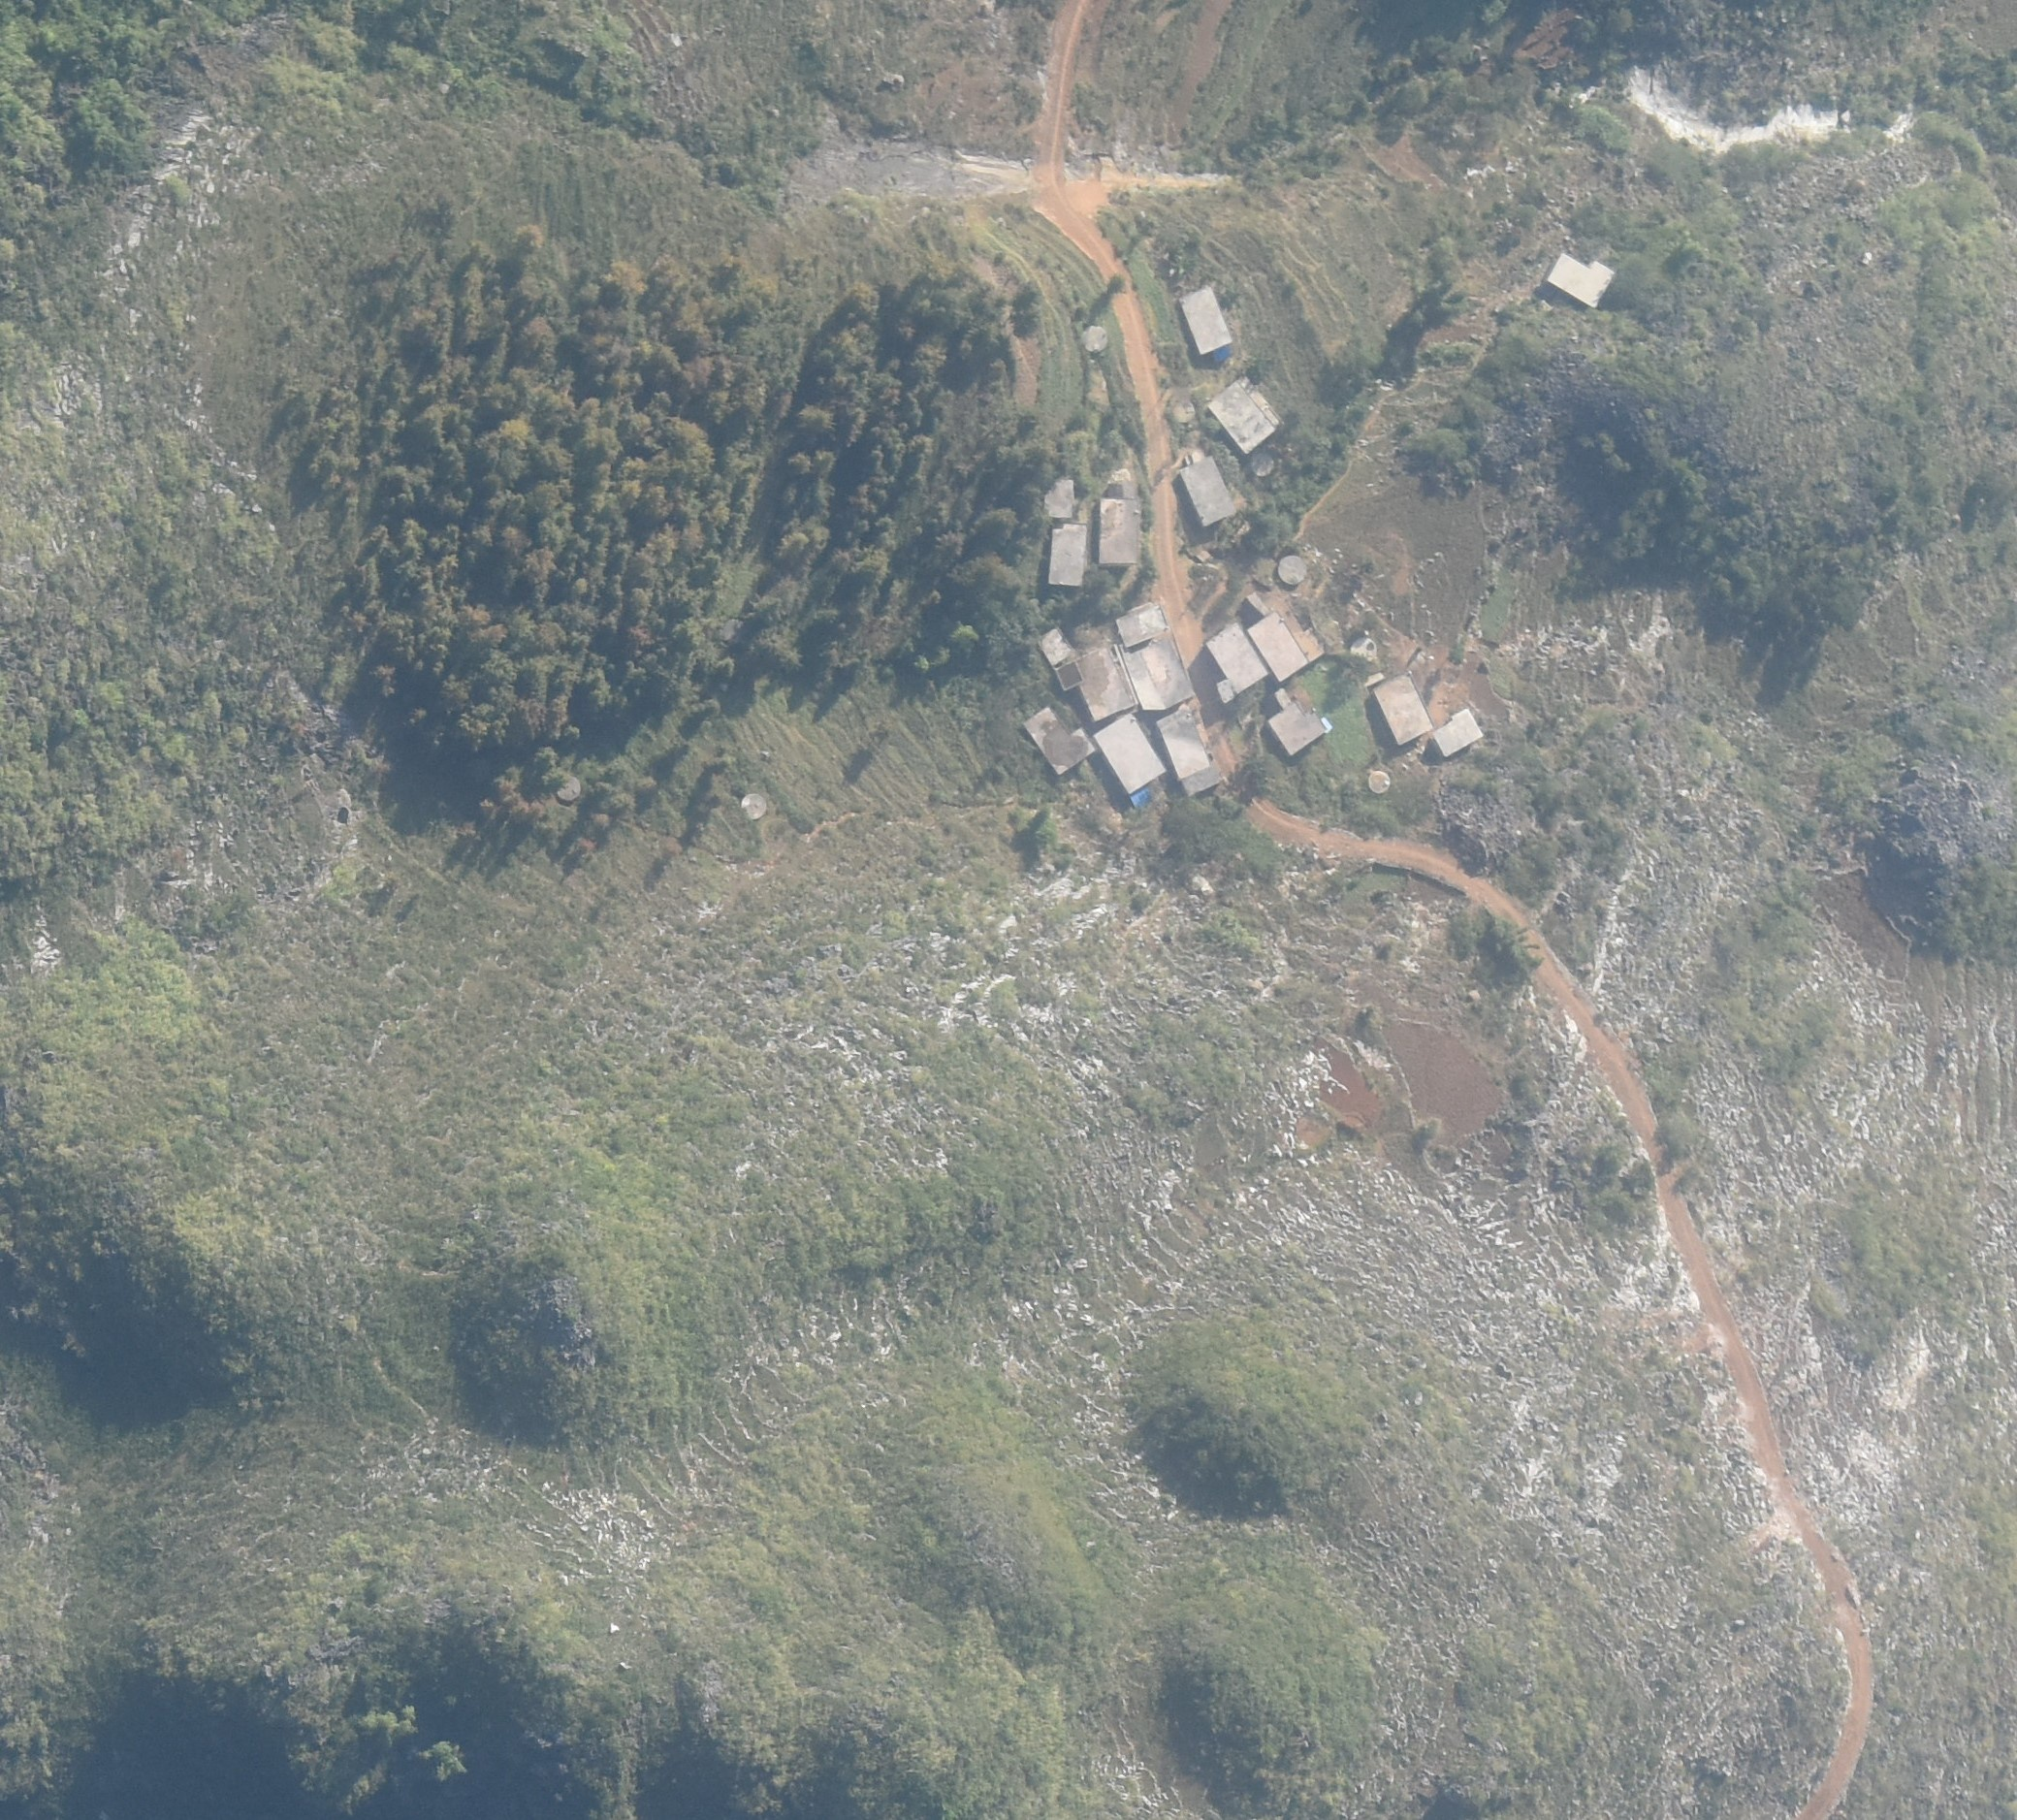building: (1038, 627, 1139, 720), (1116, 601, 1198, 713), (1207, 374, 1283, 457), (1158, 706, 1221, 794), (1204, 620, 1269, 704), (1095, 715, 1165, 792), (1021, 706, 1095, 776), (1370, 671, 1435, 741), (1249, 613, 1309, 683), (1179, 455, 1237, 525), (1548, 253, 1615, 309), (1098, 485, 1140, 571), (1179, 286, 1232, 355), (1272, 692, 1323, 757), (1432, 706, 1483, 759), (1049, 518, 1084, 585), (1044, 478, 1077, 518)
prefabricated-house: (1128, 787, 1151, 810)
well: (1279, 553, 1307, 587), (1081, 327, 1112, 353), (555, 775, 582, 803), (1253, 450, 1277, 478), (741, 792, 766, 819), (1369, 769, 1392, 794)
